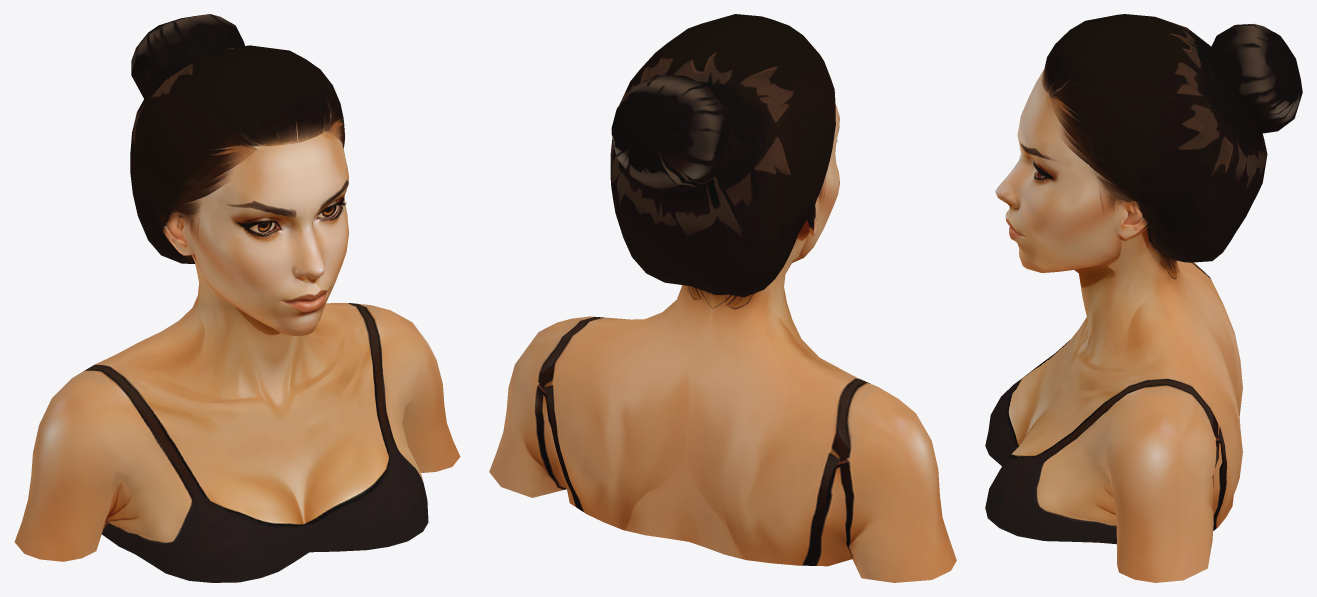
Rendered from avatar_testglb.glb.
3 views of the same model, side by side, from view 1: azimuth 30°, elevation 25°; view 2: azimuth 150°, elevation 25°; view 3: azimuth 270°, elevation 25° (orthographic). The views are drawn at different scales.
Visible parts, largest first — view 1: female body; view 2: female body; view 3: female body.
Boxes of the visible parts, x1,y1,x2,y2 form: female body: (14, 14, 460, 582); female body: (489, 14, 956, 582); female body: (985, 14, 1302, 582).
Size of the model in its own units: 0.4669 by 0.4737 by 0.2991.
2 materials, 2 textured.
